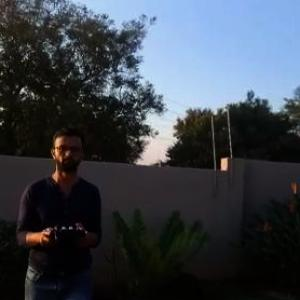follow: (13, 122, 106, 299)
